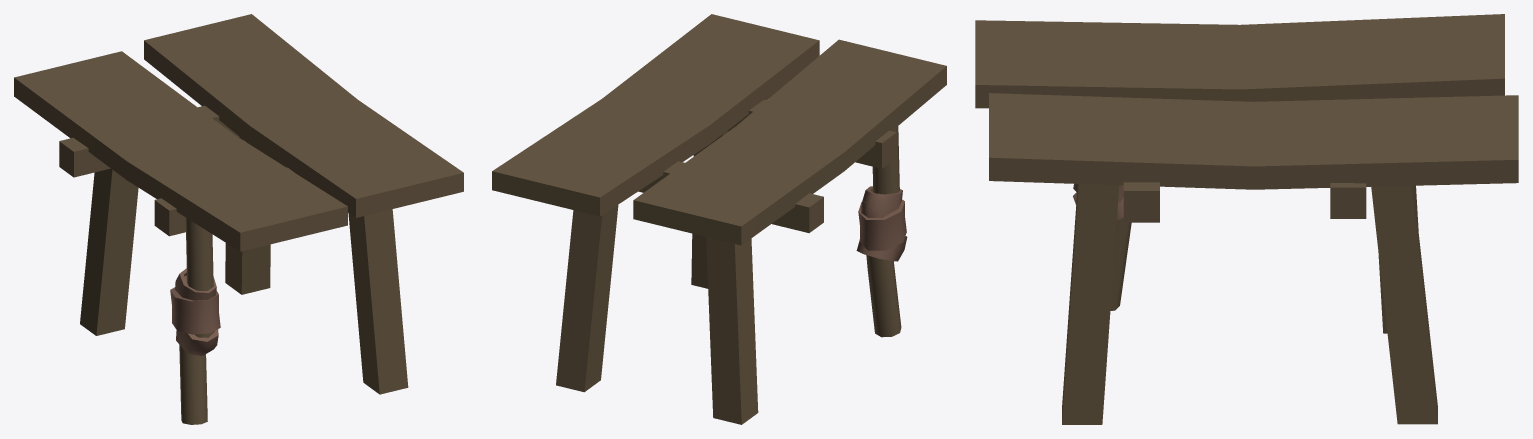
The model's file is P_bench_01_LD.fbx.
The picture shows the model from 3 angles, left to right: view 1: azimuth 30°, elevation 25°; view 2: azimuth 150°, elevation 25°; view 3: azimuth 270°, elevation 25°; orthographic projection. The views are drawn at different scales.
Visible parts, largest first — view 1: P_bench_01; view 2: P_bench_01; view 3: P_bench_01.
Part boxes in pixels (x1,y1,x2,y2): P_bench_01: (14,14,463,424); P_bench_01: (492,14,946,424); P_bench_01: (975,14,1518,424).
Bounding box in the file's own units: 52.11 × 42.97 × 74.84.
1 material, 1 textured.
